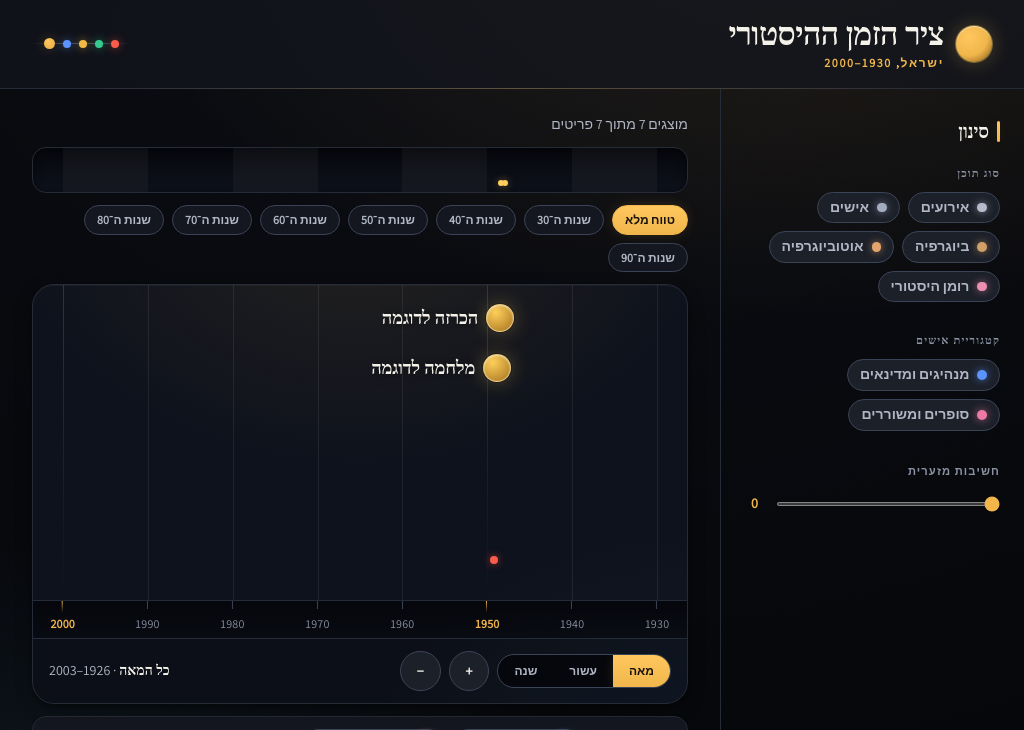
Test: FilterBar › clear-all resets chips and restores the full timeline
Expected: the button "מלחמה לדוגמה" is shown, [359, 345, 511, 391]
Click the button "אישים" at (858, 208), box [817, 192, 900, 223]
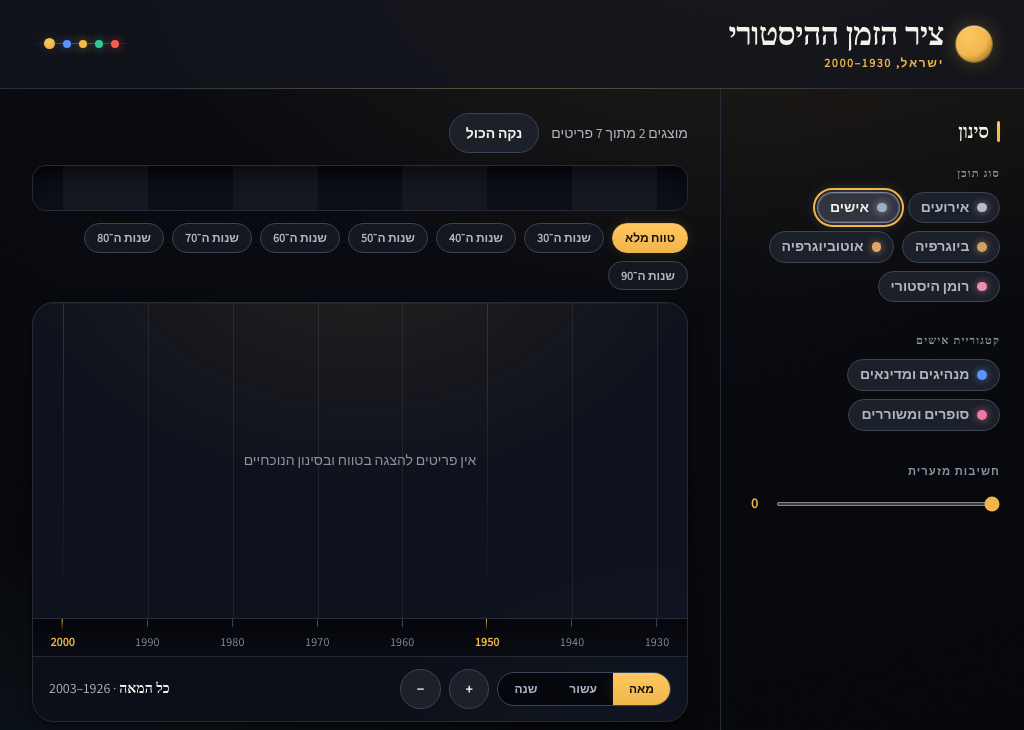
Now the button "אישים" is pressed, box [817, 192, 900, 223]
Click the button "נקה הכול" at (494, 133), box [449, 113, 539, 153]
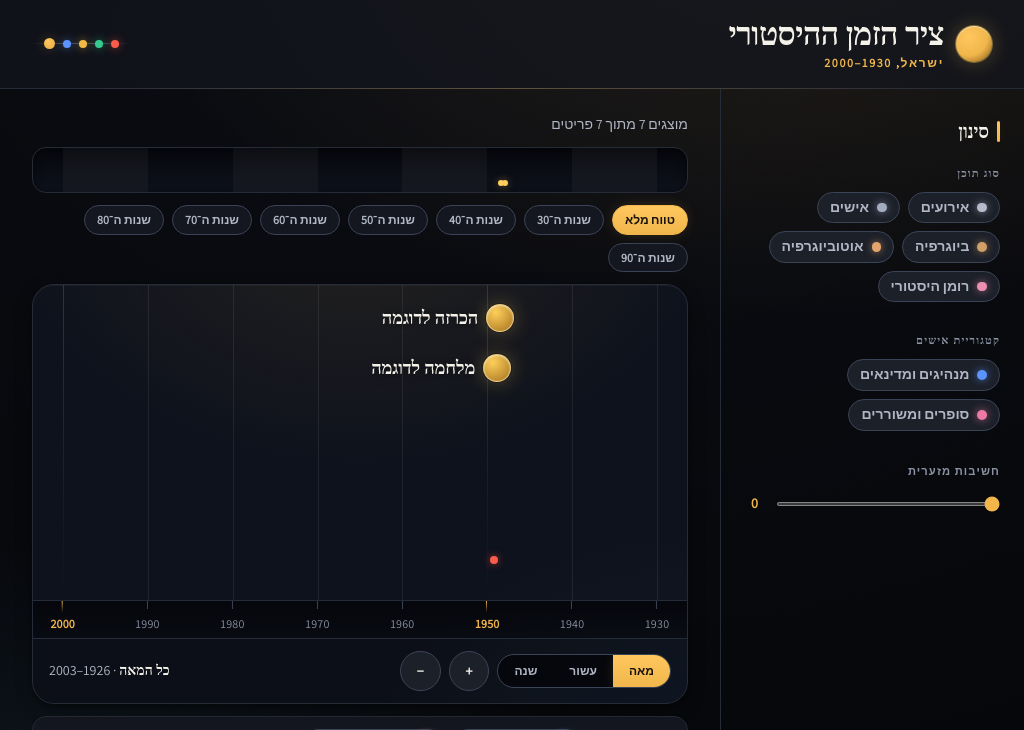
Now the button "מלחמה לדוגמה" is shown, box [359, 345, 511, 391]
Now the button "נקה הכול" is gone
